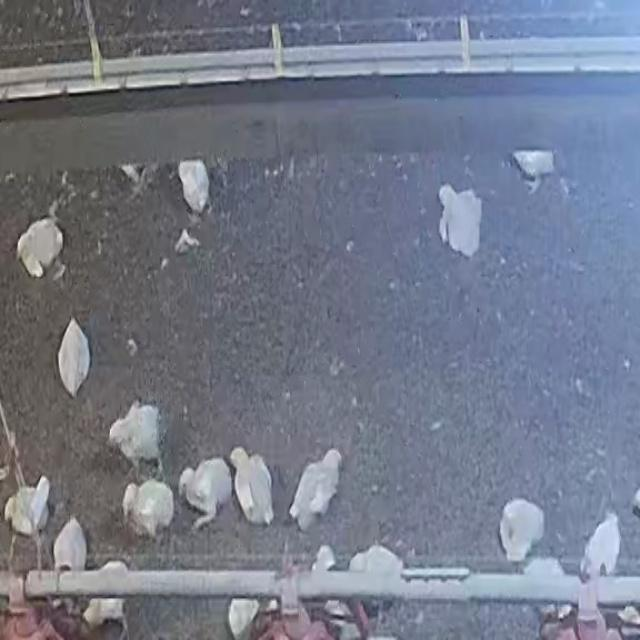chicken: (286, 444, 346, 533), (106, 398, 166, 478), (174, 455, 235, 533), (229, 442, 279, 530), (436, 178, 486, 262), (497, 494, 548, 565), (81, 560, 128, 631), (56, 314, 95, 399), (122, 478, 175, 539), (16, 218, 63, 279), (579, 511, 621, 578), (4, 480, 49, 538), (52, 516, 88, 572), (178, 159, 210, 215), (227, 596, 260, 640)
